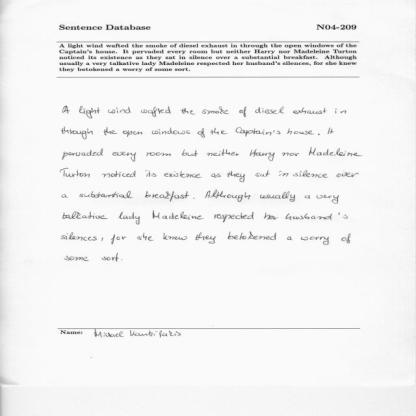Handwritten text: (50, 185, 354, 207), (52, 163, 370, 184), (56, 99, 354, 121), (50, 208, 365, 228), (50, 229, 370, 248), (57, 122, 345, 142), (60, 145, 380, 162), (61, 252, 136, 267)
